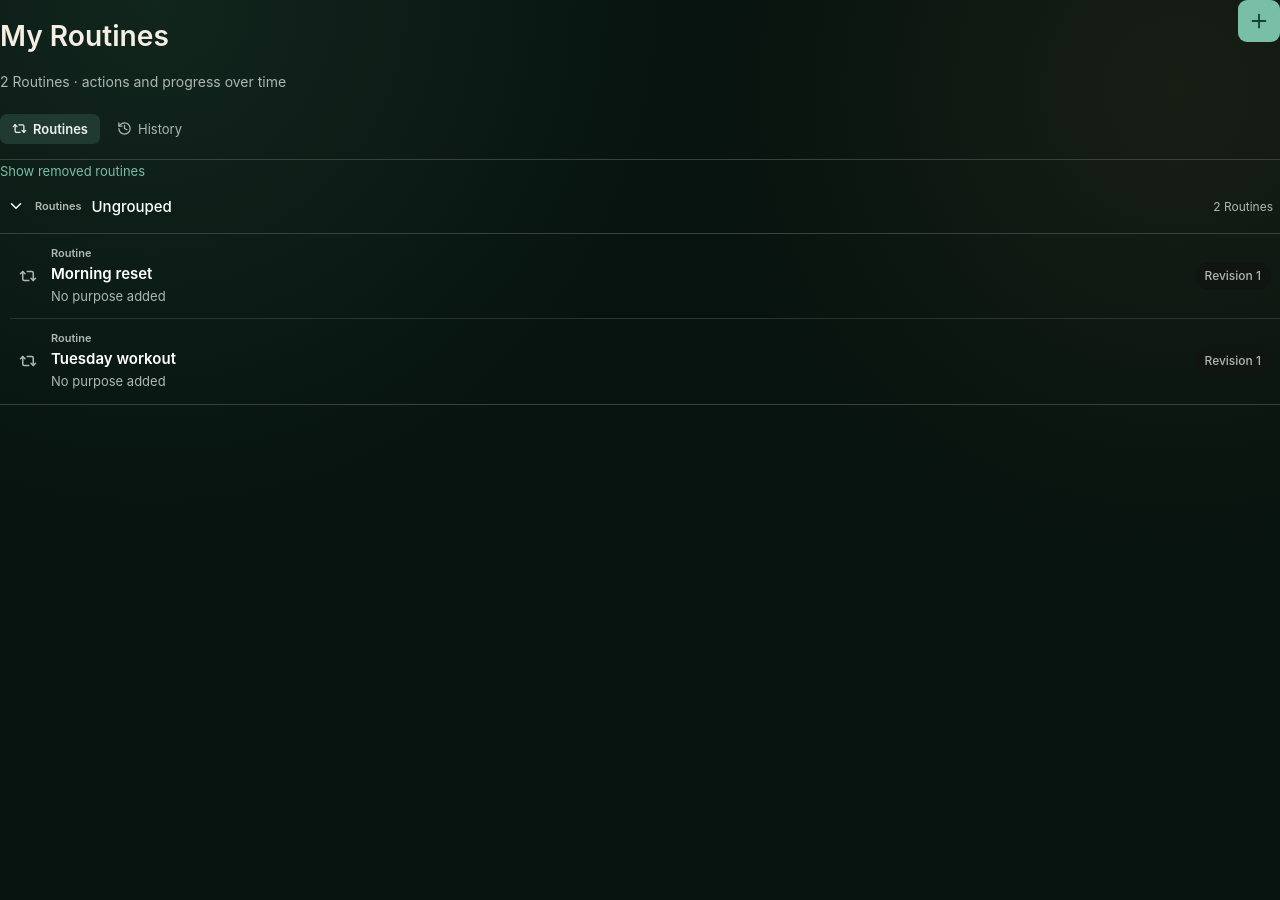
Test: Routine selection, retained-history deletion, and scoped History › a stale selected revision cannot silently delete the changed Routine
This screenshot has width=1280, height=900.
Click the button named "Create in My Routines" at (1259, 21), box [1238,0,1279,42]
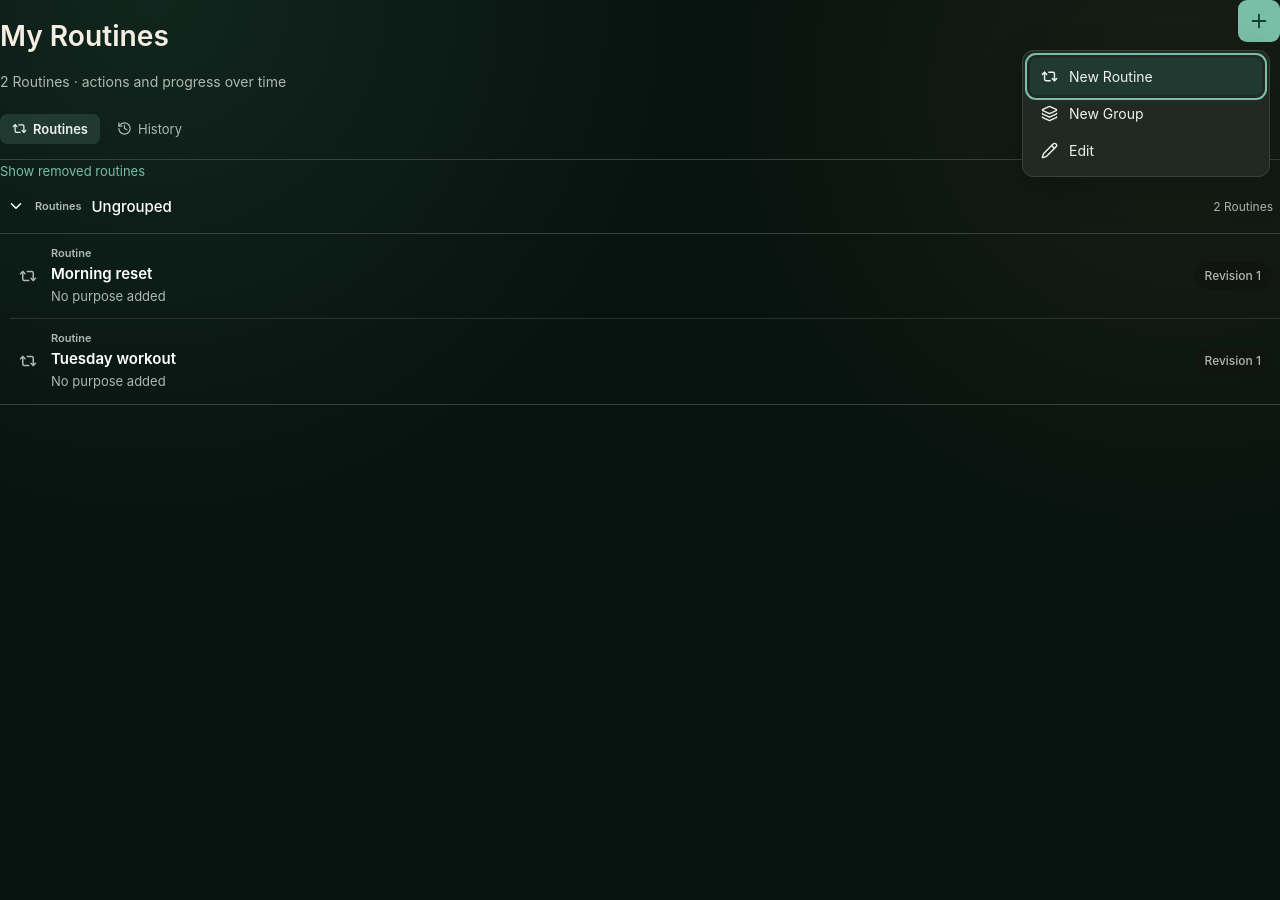
Click the menu item "Edit" at (1146, 150), box [1030,132,1262,169]
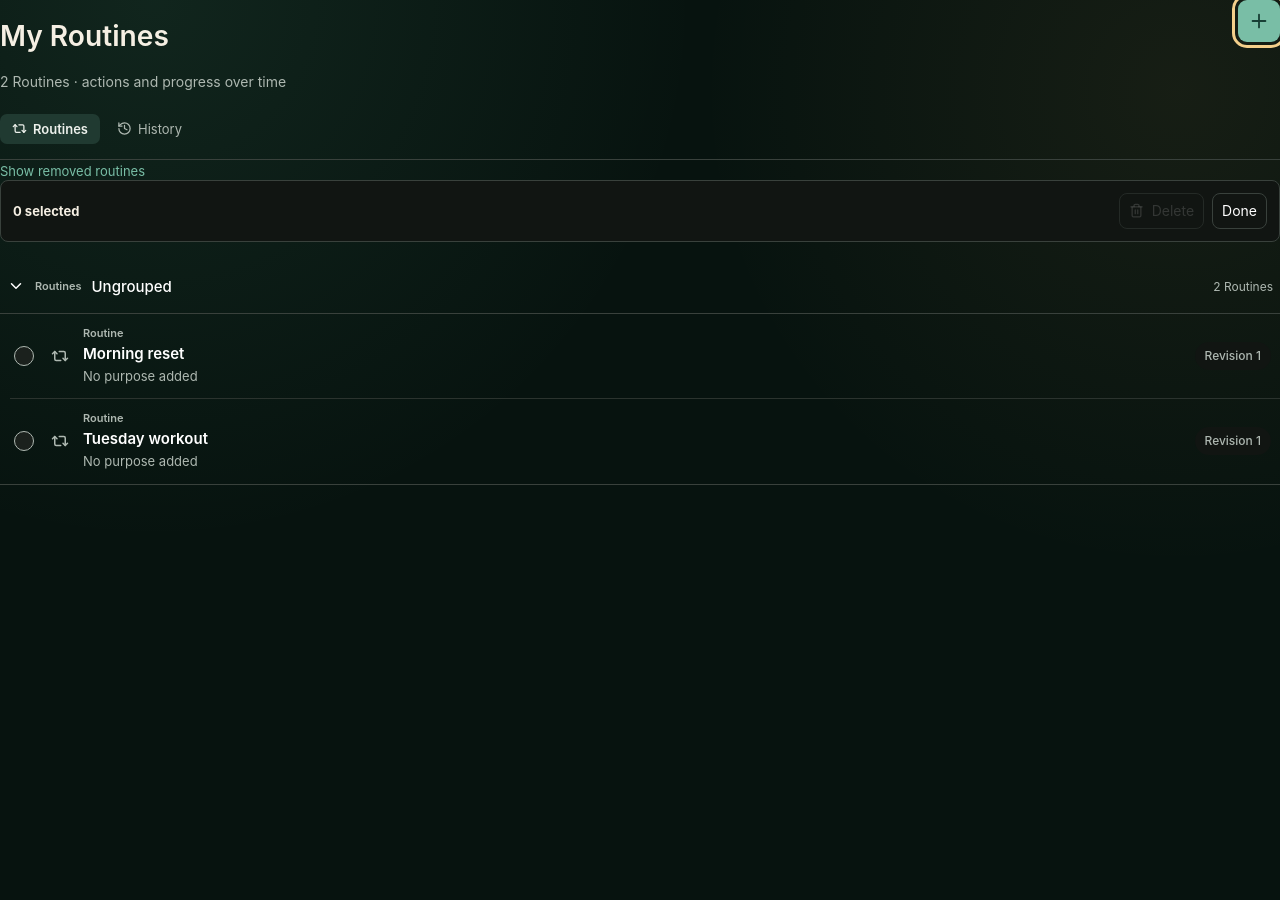
Click the checkbox named "Select Morning reset" at (24, 356), box [14,346,34,366]
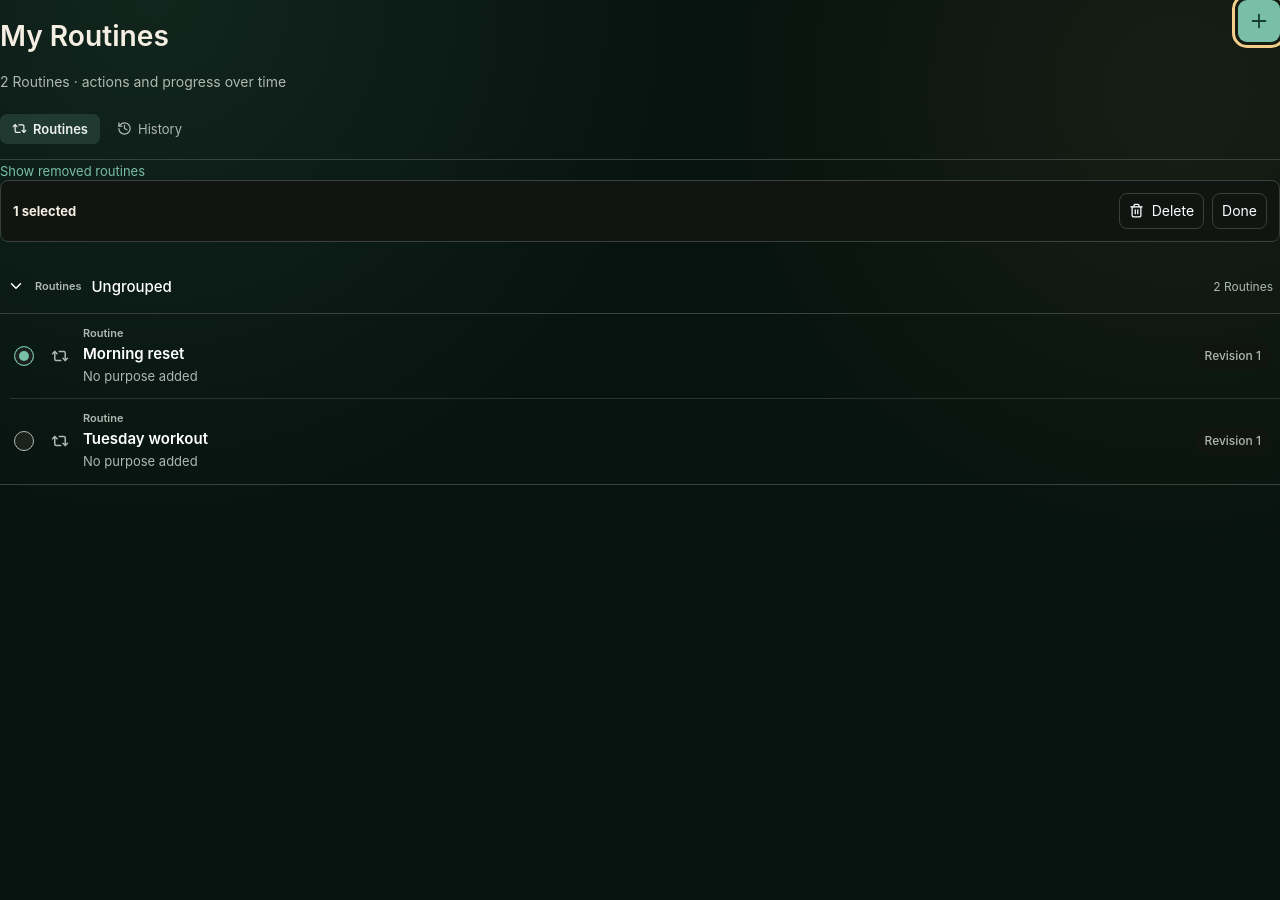
Click the button "Delete" at (1161, 210), box [1119,192,1204,228]
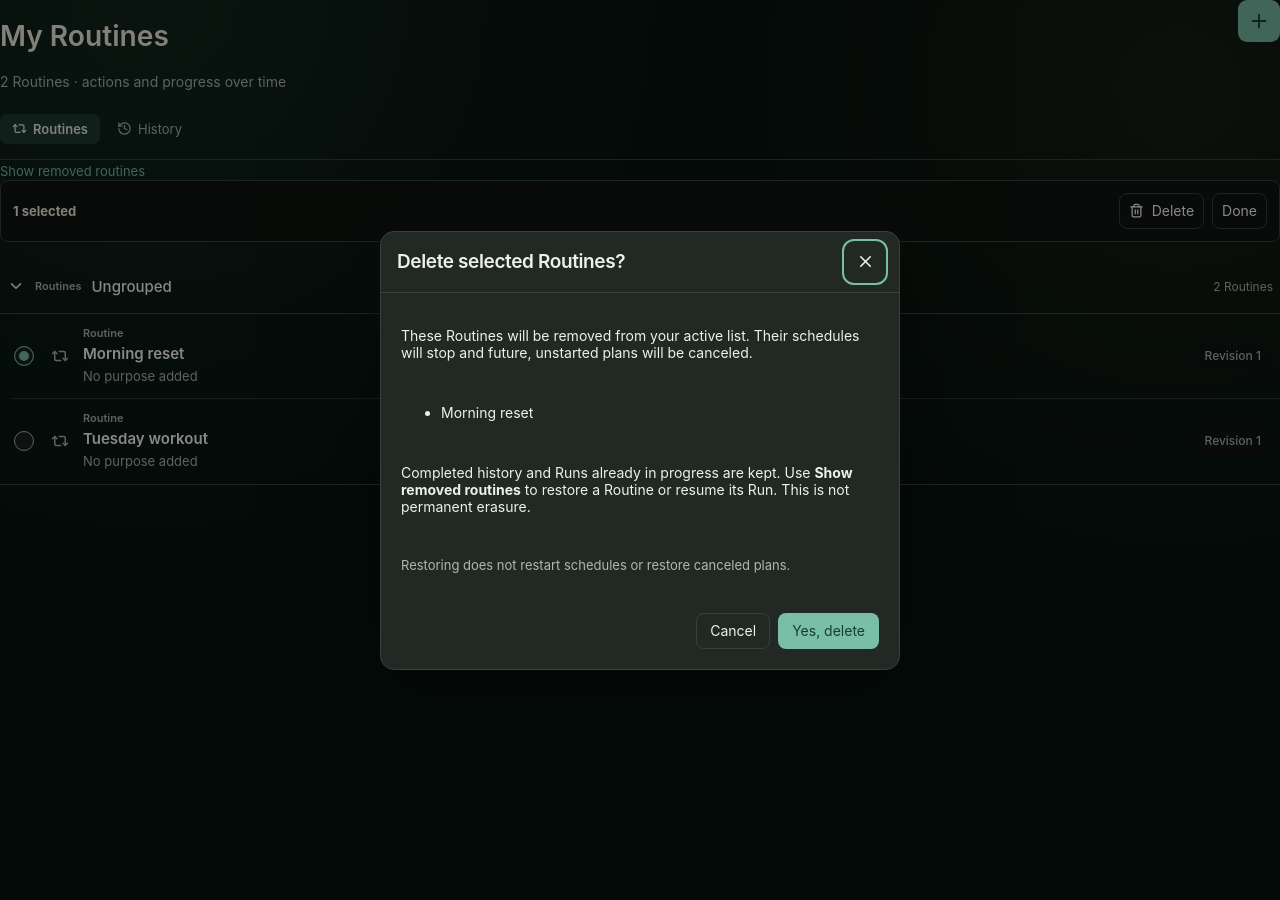
Click the button "Yes, delete" at (829, 630), box [778,612,879,648]
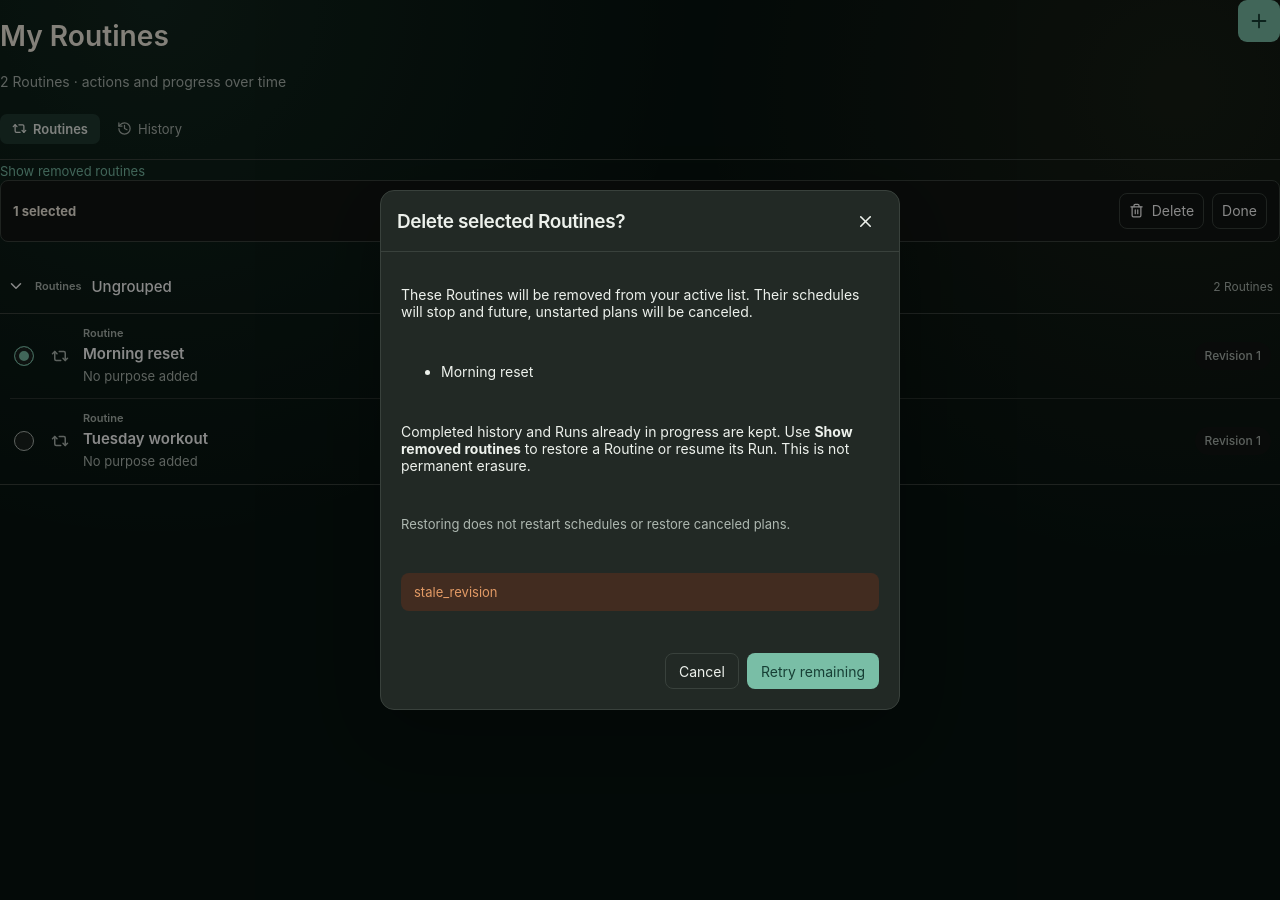
Check: the message "stale_revision" is shown, box [401,573,879,611]
